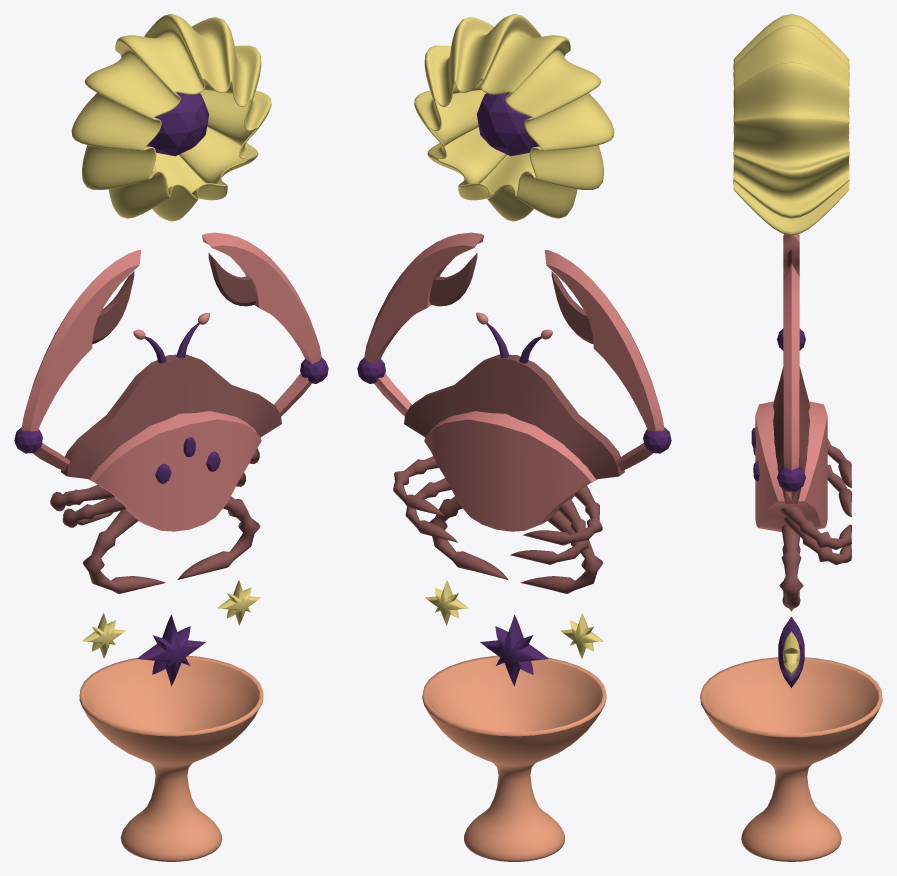
The model's file is badrpost-sign-4977.glb.
3 views of the same model, side by side, from view 1: azimuth 30°, elevation 25°; view 2: azimuth 150°, elevation 25°; view 3: azimuth 270°, elevation 25° (orthographic).
Parts seen in each view (by area): view 1: sun, Cup, Body, hand, mouth, leg, Sphere_Sun, finger, Star, Star.001, Icosphere.002, leg.001 (+1 smaller); view 2: sun, Cup, Body, hand, mouth, leg, leg.002, Sphere_Sun, finger, leg.001, Star, Star.001 (+1 smaller); view 3: sun, Cup, Body, hand, mouth, leg.002, leg.001, leg, Star, Icosphere.002, Star.001.
Part boxes in pixels (<box>): sun: <box>71,14,271,221</box>; Cup: <box>79,655,263,861</box>; Body: <box>88,411,261,531</box>; hand: <box>21,232,321,470</box>; mouth: <box>61,354,281,479</box>; leg: <box>82,496,260,593</box>; Sphere_Sun: <box>147,92,208,156</box>; finger: <box>92,253,256,344</box>; Star: <box>137,614,205,686</box>; Star.001: <box>82,580,260,658</box>; Icosphere.002: <box>14,357,328,453</box>; leg.001: <box>62,473,245,527</box>; sun: <box>414,14,614,221</box>; Cup: <box>422,655,606,861</box>; Body: <box>424,411,596,531</box>; hand: <box>364,232,664,471</box>; mouth: <box>404,354,624,479</box>; leg: <box>429,496,603,593</box>; leg.002: <box>393,456,602,545</box>; Sphere_Sun: <box>477,92,538,156</box>; finger: <box>429,253,593,344</box>; leg.001: <box>405,478,588,564</box>; Star: <box>480,614,548,686</box>; Star.001: <box>425,580,603,658</box>; sun: <box>733,14,849,235</box>; Cup: <box>700,657,882,861</box>; Body: <box>755,401,827,532</box>; hand: <box>783,234,799,500</box>; mouth: <box>773,366,809,503</box>; leg.002: <box>780,438,851,549</box>; leg.001: <box>784,464,852,564</box>; leg: <box>779,524,803,609</box>; Star: <box>778,617,804,687</box>; Icosphere.002: <box>777,328,805,491</box>; Star.001: <box>783,576,799,676</box>.
Bounding box in the file's own units: 0.0956 × 0.2436 × 0.0493.
